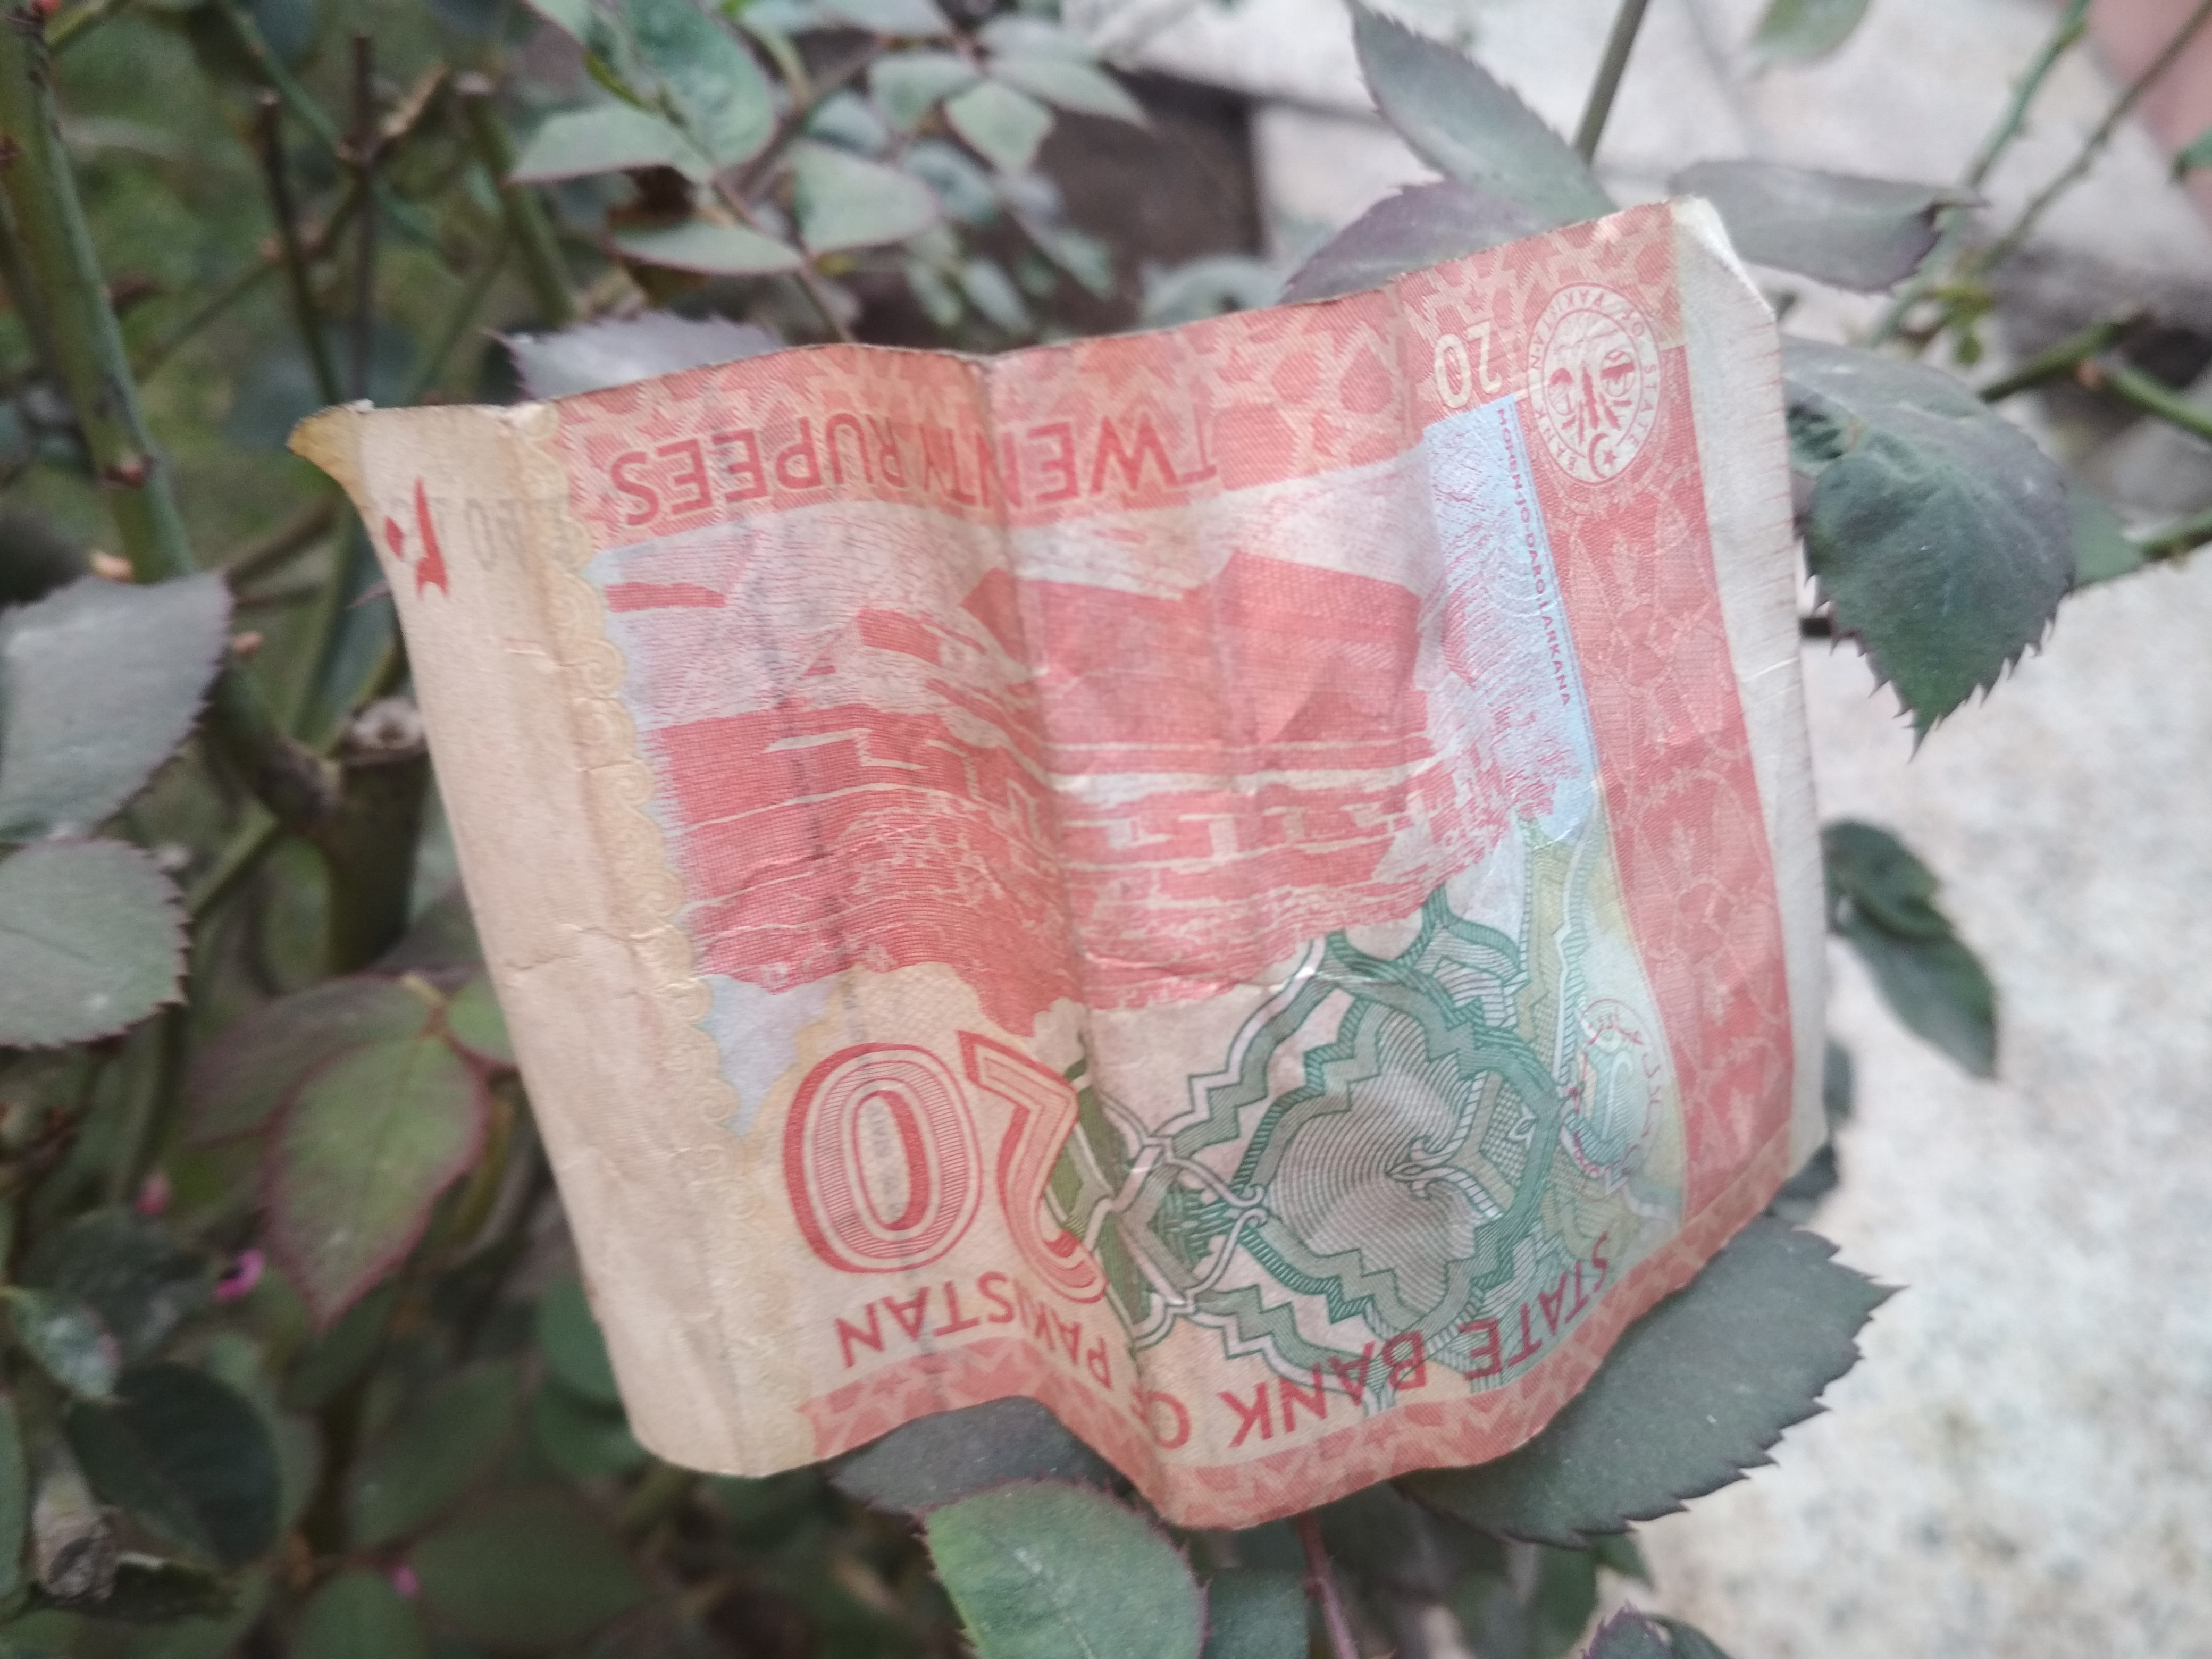20 rupee: (237, 152, 2006, 1556)
